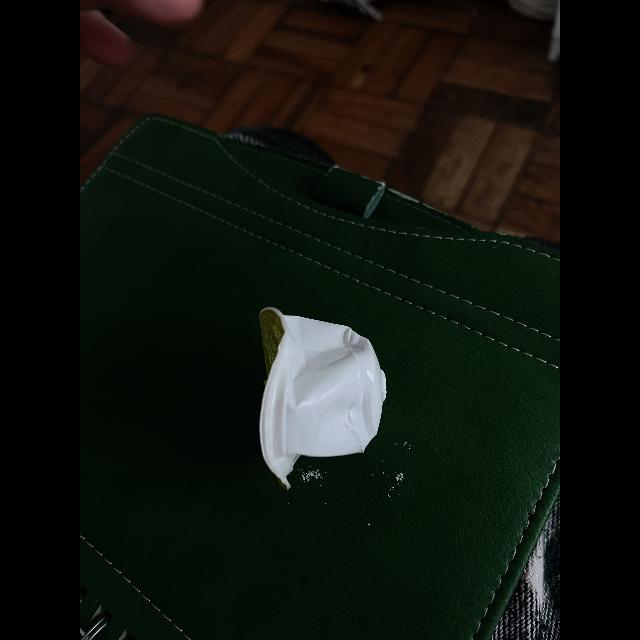damaged_capsule: (233, 306, 401, 494)
